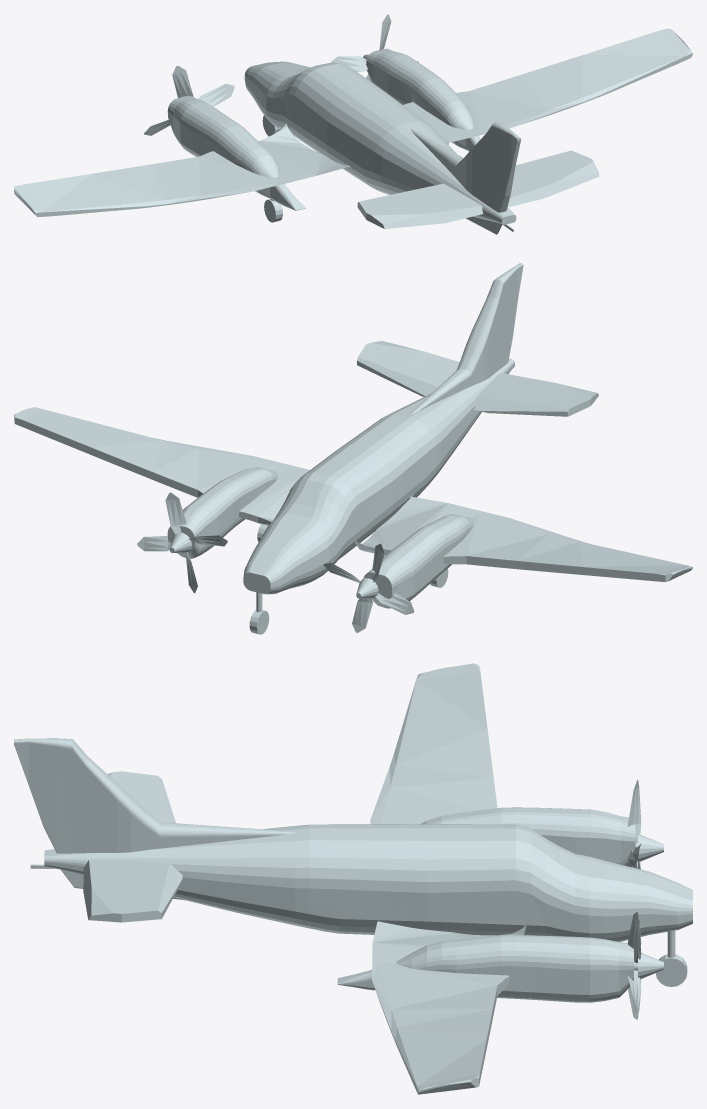
3 views of the same model, one above another, from view 1: azimuth 30°, elevation 25°; view 2: azimuth 150°, elevation 25°; view 3: azimuth 270°, elevation 25° (orthographic). The views are drawn at different scales.
Visible parts, largest first — view 1: Aircraft visual hull, Rotor 1790901353966-wbwlcbht4bm-mirror, Rotor 1790901353966-wbwlcbht4bm, Landing gear; view 2: Aircraft visual hull, Rotor 1790901353966-wbwlcbht4bm, Rotor 1790901353966-wbwlcbht4bm-mirror, Landing gear; view 3: Aircraft visual hull, Rotor 1790901353966-wbwlcbht4bm, Rotor 1790901353966-wbwlcbht4bm-mirror, Landing gear.
Boxes of the visible parts, x1,y1,x2,y2 form: Aircraft visual hull: [14, 28, 692, 234]; Rotor 1790901353966-wbwlcbht4bm-mirror: [144, 65, 234, 135]; Rotor 1790901353966-wbwlcbht4bm: [330, 14, 418, 81]; Landing gear: [262, 115, 448, 222]; Aircraft visual hull: [14, 263, 692, 608]; Rotor 1790901353966-wbwlcbht4bm: [137, 492, 227, 593]; Rotor 1790901353966-wbwlcbht4bm-mirror: [323, 543, 414, 632]; Landing gear: [249, 524, 448, 634]; Aircraft visual hull: [14, 663, 692, 1094]; Rotor 1790901353966-wbwlcbht4bm: [627, 912, 663, 1019]; Rotor 1790901353966-wbwlcbht4bm-mirror: [627, 779, 663, 869]; Landing gear: [655, 930, 687, 986].
Size of the model in its own units: 15.44 by 4.17 by 10.65.
